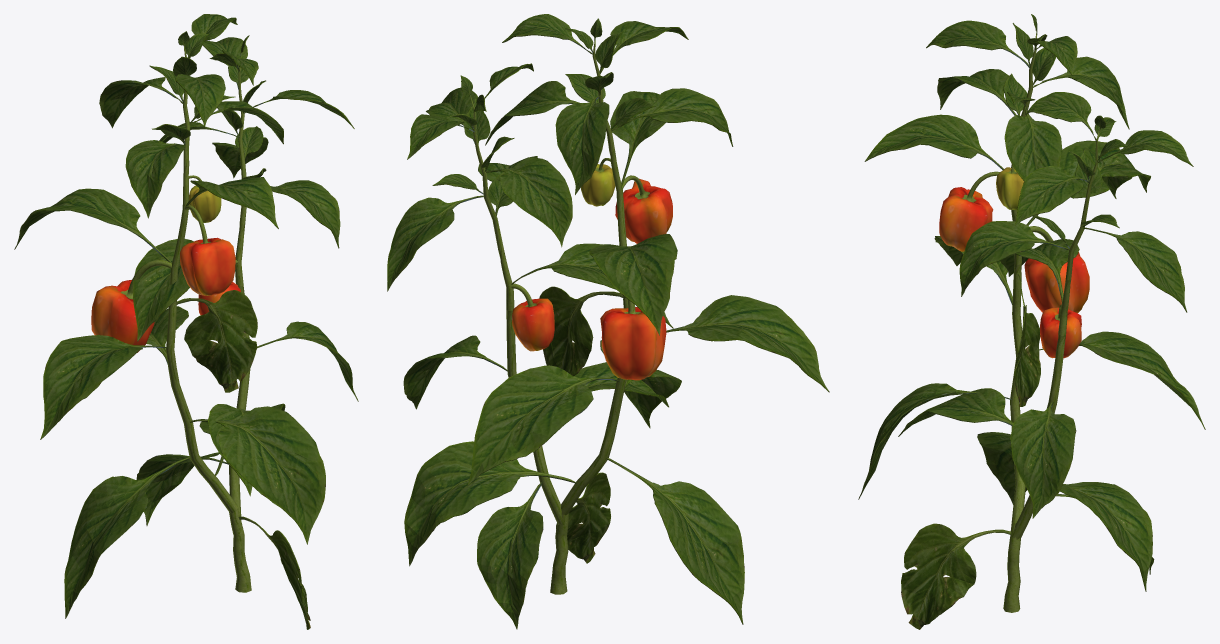
3 renders of one model, left to right at view 1: azimuth 30°, elevation 25°; view 2: azimuth 150°, elevation 25°; view 3: azimuth 270°, elevation 25°, orthographic. The views are drawn at different scales.
Visible parts, largest first — view 1: VG07_025; view 2: VG07_025; view 3: VG07_025.
Part boxes in pixels (<box>): VG07_025: <box>14,14,358,629</box>; VG07_025: <box>387,14,829,629</box>; VG07_025: <box>858,14,1205,629</box>.
Size of the model in its own units: 0.5121 by 0.4265 by 0.7898.
5 materials, 5 textured.
